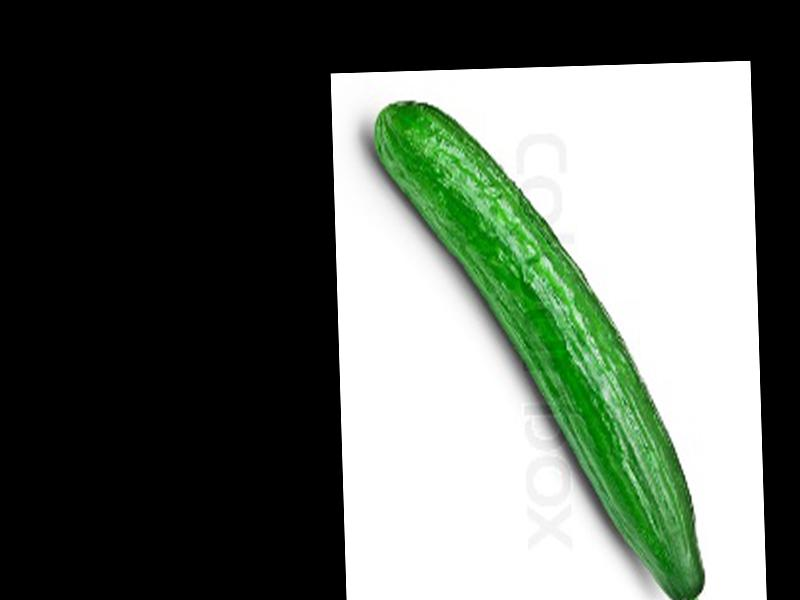Cucumber: (370, 95, 706, 600)
